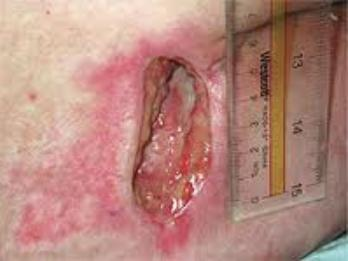Stage3: (101, 35, 235, 250)
